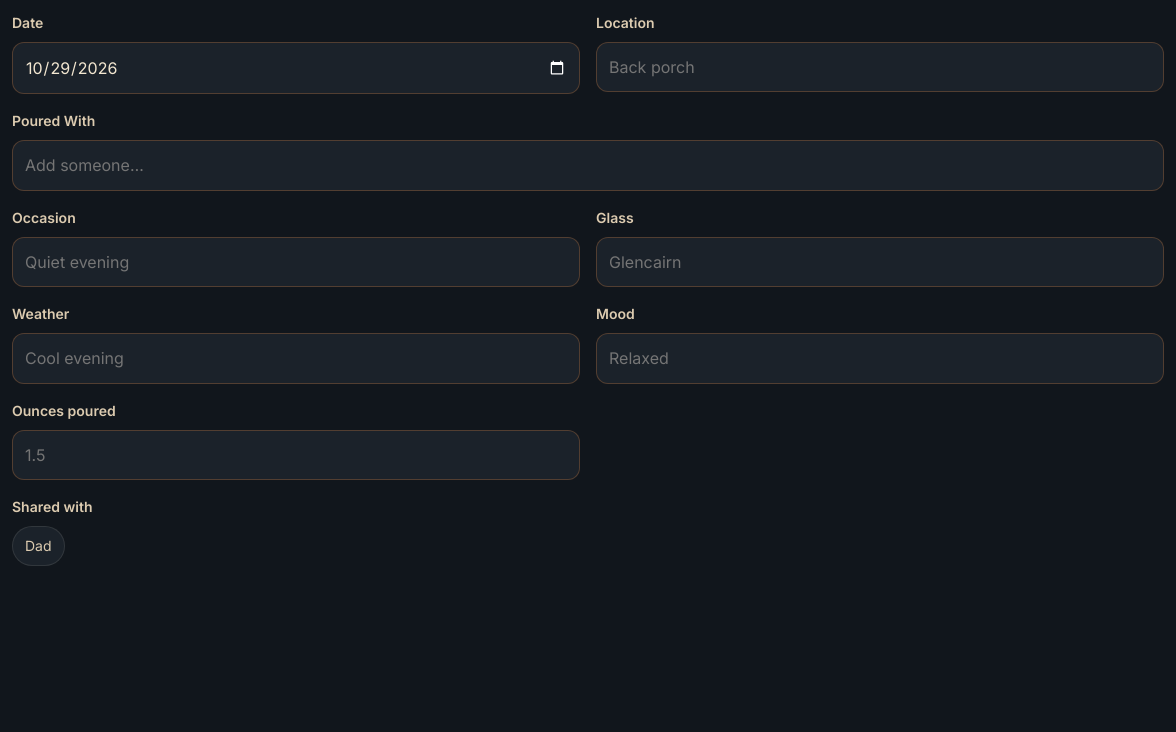
Test case: SessionStep › renders the Poured With picker, seeded with saved contacts
The width and height of the screenshot is (1176, 732).
Type "Mar" into the field with placeholder "Add someone…". click: coordinates (588, 166)
box: [12,140,1164,191]
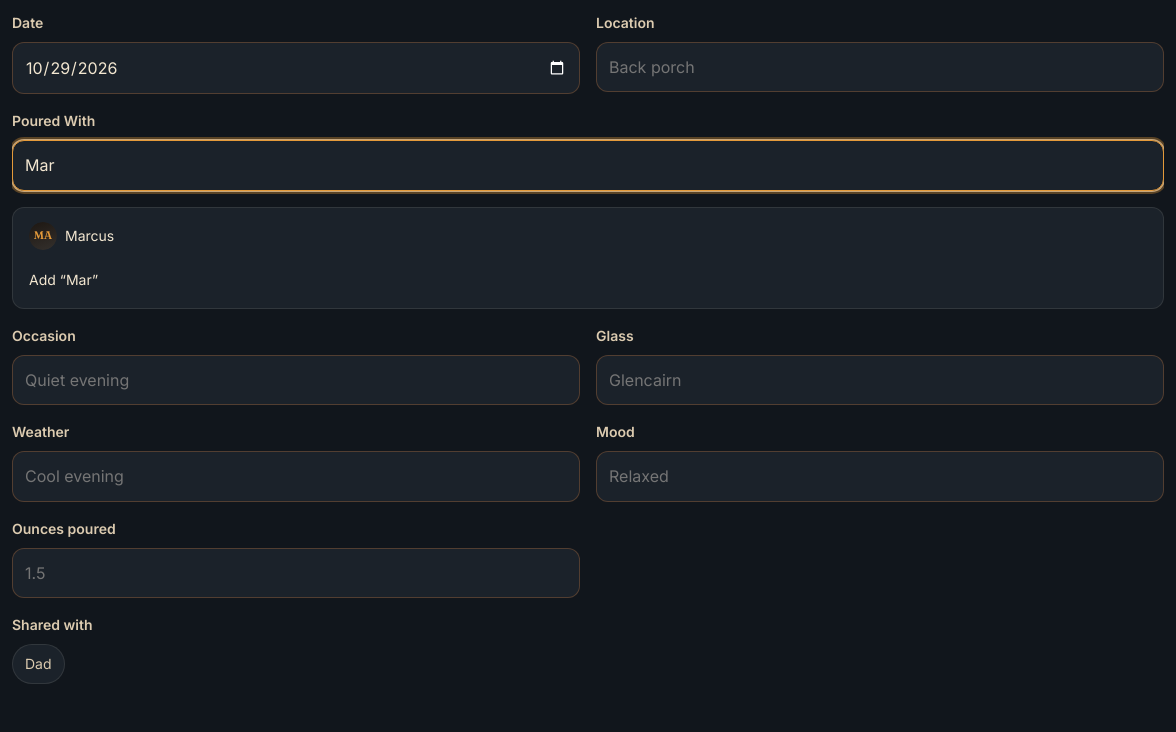
Expected: the button "MA Marcus" is shown, [21,216,1155,256]
